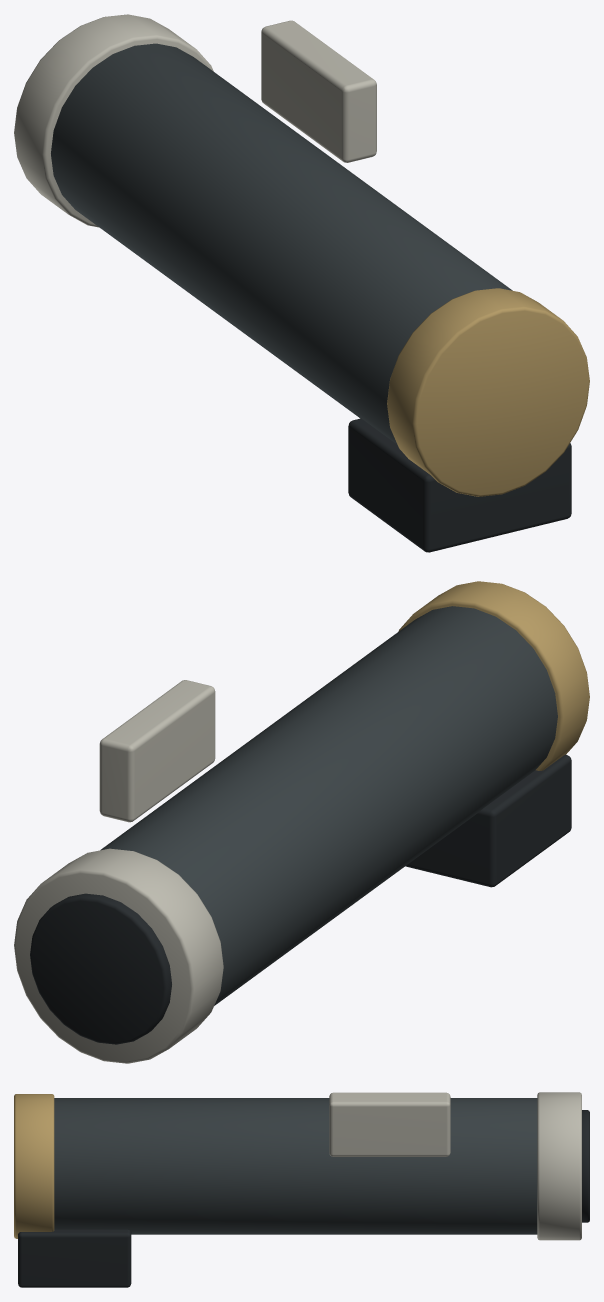
The model's file is Weapon_rocket.glb.
3 renders of one model, top to bottom at view 1: azimuth 30°, elevation 25°; view 2: azimuth 150°, elevation 25°; view 3: azimuth 270°, elevation 25°, orthographic. The views are drawn at different scales.
Parts seen in each view (by area): view 1: Weapon_rocket; view 2: Weapon_rocket; view 3: Weapon_rocket.
Part boxes in pixels (<box>): Weapon_rocket: <box>14,14,589,552</box>; Weapon_rocket: <box>14,581,589,1063</box>; Weapon_rocket: <box>14,1092,589,1287</box>.
Size of the model in its own units: 0.1915 by 0.265 by 0.7125.
